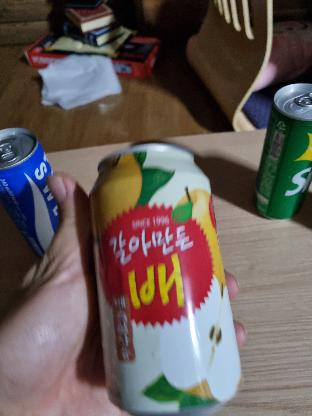Can: (87, 145, 257, 416), (0, 122, 64, 256), (252, 81, 312, 223)
